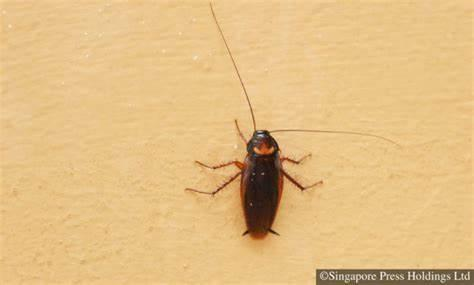cockroach: (232, 117, 288, 243)
